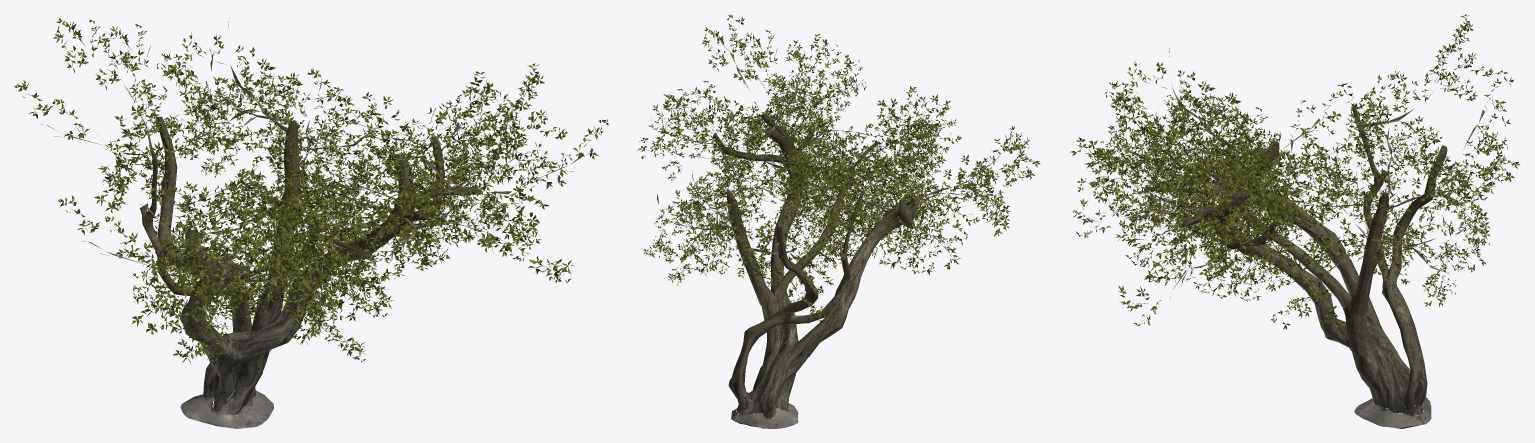
Rendered from island_tree_02_leve.glb.
The picture shows the model from 3 angles, left to right: view 1: azimuth 30°, elevation 25°; view 2: azimuth 150°, elevation 25°; view 3: azimuth 270°, elevation 25°; orthographic projection. The views are drawn at different scales.
Parts seen in each view (by area): view 1: island_tree_02_LOD0.002, island_tree_02_LOD0.001, island_tree_02_LOD0; view 2: island_tree_02_LOD0.002, island_tree_02_LOD0.001, island_tree_02_LOD0; view 3: island_tree_02_LOD0.002, island_tree_02_LOD0.001, island_tree_02_LOD0.
Boxes of the visible parts, x1=… form: island_tree_02_LOD0.002: x1=14, y1=18, x2=608, y2=363; island_tree_02_LOD0.001: x1=139, y1=116, x2=480, y2=428; island_tree_02_LOD0: x1=28, y1=22, x2=595, y2=357; island_tree_02_LOD0.002: x1=637, y1=14, x2=1040, y2=324; island_tree_02_LOD0.001: x1=713, y1=112, x2=920, y2=428; island_tree_02_LOD0: x1=648, y1=26, x2=1033, y2=313; island_tree_02_LOD0.002: x1=1070, y1=14, x2=1520, y2=331; island_tree_02_LOD0.001: x1=1146, y1=105, x2=1447, y2=428; island_tree_02_LOD0: x1=1077, y1=27, x2=1512, y2=326.
Bounding box in the file's own units: 3.86 × 3.4 × 4.07.
3 materials, 3 textured.
